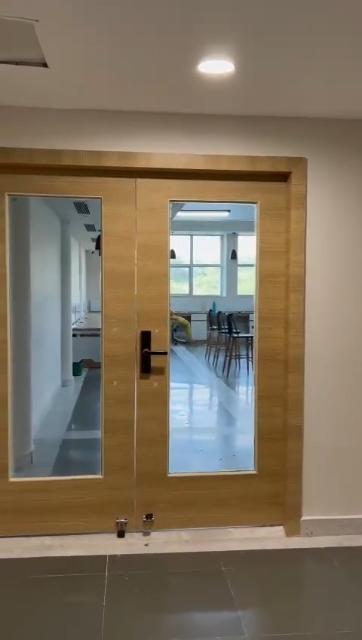door: (0, 138, 314, 534)
floor: (0, 550, 362, 640)
